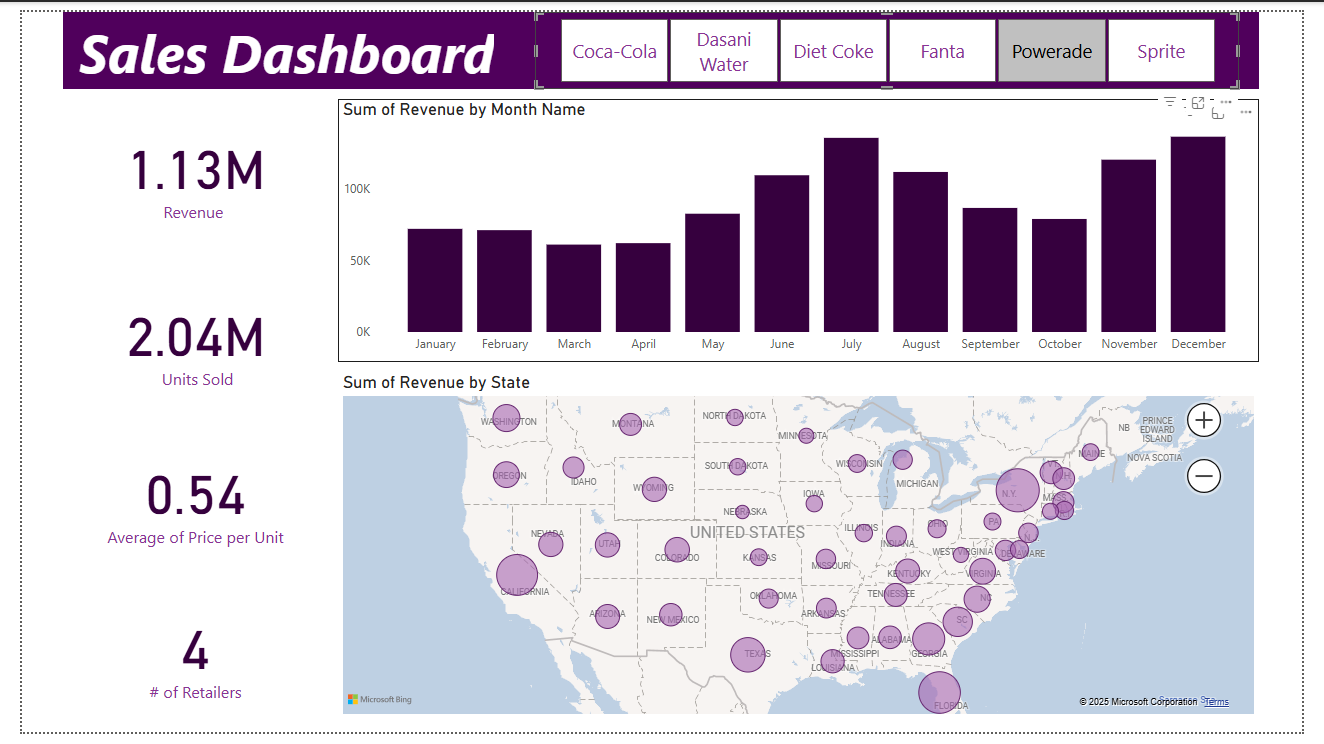

The dashboard page shown, as its layout file describes it:
{"tool":"powerbi","page":{"name":"Page 1","canvas":[1280,720],"ordinal":0},"visuals":[{"type":"shape","box":[41,0,1196,77],"z":0},{"type":"card","fields":{"Values":["Sum(Data.Revenue )"]},"box":[31,87,285,148],"z":1},{"type":"card","fields":{"Values":["Avg(Data.Price per Unit)"]},"box":[31,420.3,285,132],"z":2},{"type":"card","fields":{"Values":["Sum(Data.Units Sold)"]},"box":[31,257.7,285,140],"z":3},{"type":"columnChart","fields":{"Y":["Sum(Data.Revenue )"],"Category":["Data.Month Name"]},"box":[316,87,921,263],"z":4},{"type":"map","fields":{"Category":["Data.State"],"Size":["Sum(Data.Revenue )"]},"box":[316,360,921,347],"z":5},{"type":"slicer","fields":{"Values":["Data.Beverage Brand"]},"box":[513,0,704,77],"z":6},{"type":"card","fields":{"Values":["Count(Data.Retailer)"]},"box":[31,575,285,132],"z":7}]}

Visuals, with their boxes in screenshot pixels (x1, y1, x2, y2), scaled from the page's 1280x720 canvas onto the 1324x744 screenshot:
shape: 42:0:1280:80
card - Sum(Data.Revenue ): 32:90:327:243
card - Avg(Data.Price per Unit): 32:434:327:571
card - Sum(Data.Units Sold): 32:266:327:411
columnChart - Sum(Data.Revenue ) x Data.Month Name: 327:90:1280:362
map - Data.State x Sum(Data.Revenue ): 327:372:1280:731
slicer - Data.Beverage Brand: 531:0:1259:80
card - Count(Data.Retailer): 32:594:327:731
